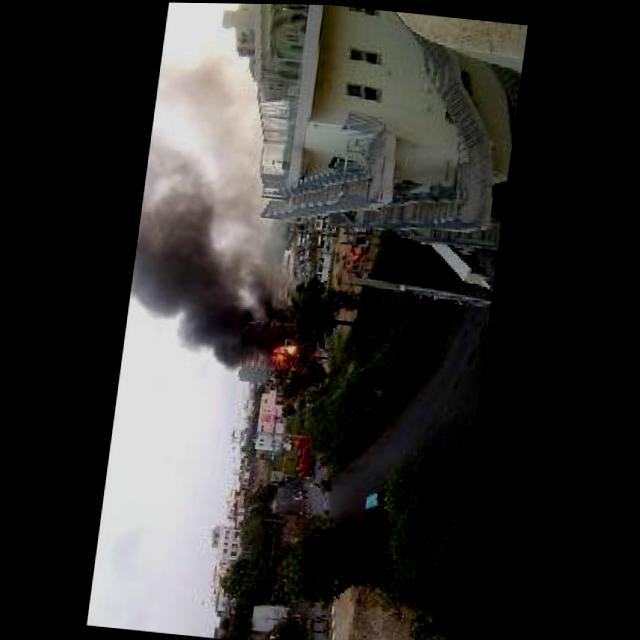Fire: (273, 344, 296, 367)
Smoke: (119, 59, 305, 374)
